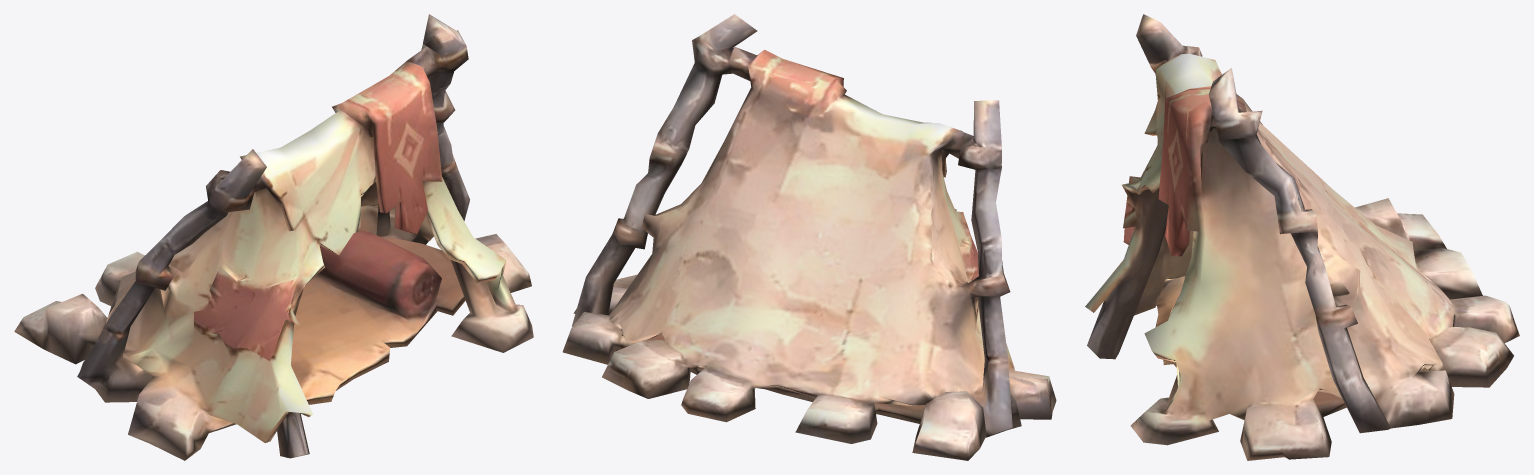
Rendered from camp_tent.glb.
The picture shows the model from 3 angles, left to right: view 1: azimuth 30°, elevation 25°; view 2: azimuth 150°, elevation 25°; view 3: azimuth 270°, elevation 25°; orthographic projection. The views are drawn at different scales.
Parts seen in each view (by area): view 1: camp_tent; view 2: camp_tent; view 3: camp_tent.
Boxes of the visible parts, x1,y1,x2,y2 form: camp_tent: [14, 14, 533, 460]; camp_tent: [562, 14, 1056, 460]; camp_tent: [1085, 14, 1519, 460].
Size of the model in its own units: 2.35 by 1.8 by 1.82.
Materials: 1 (1 with a texture image).
